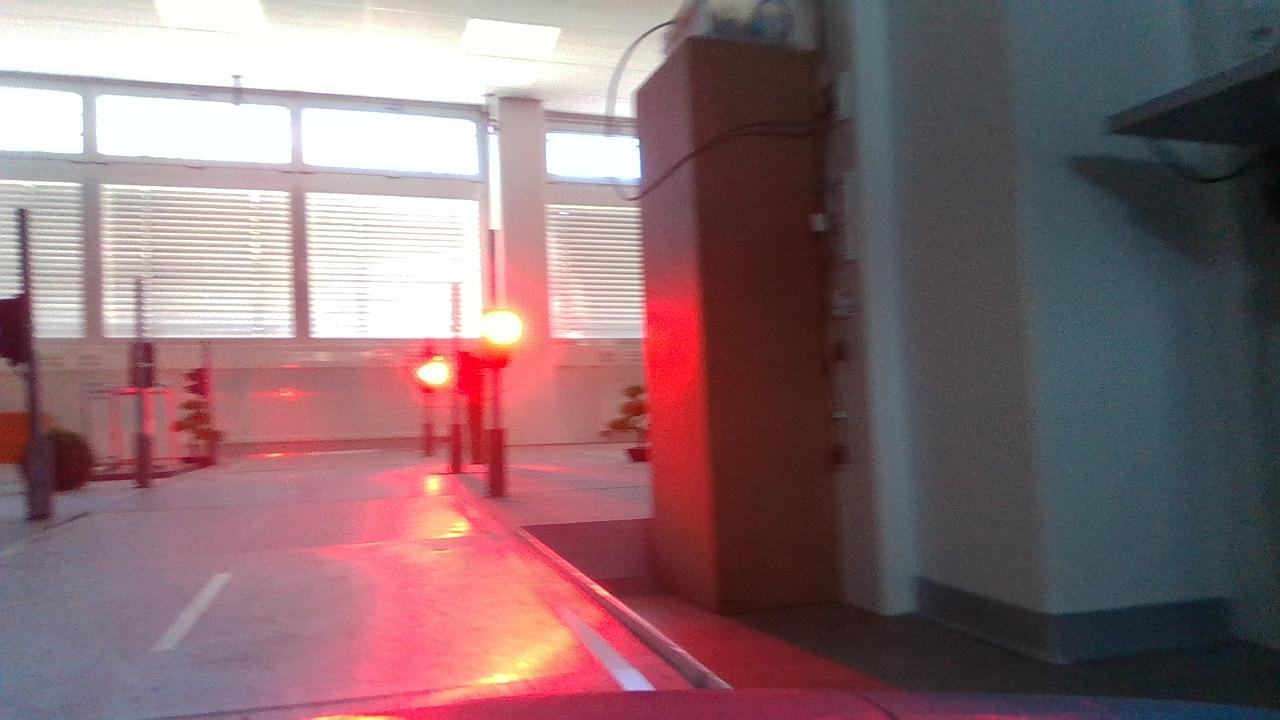traffic_light_red: (475, 309, 524, 377)
